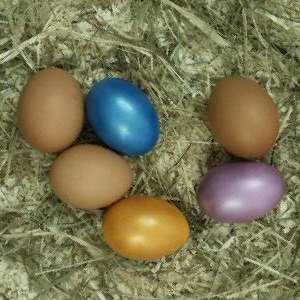egg: (208, 76, 280, 161), (18, 67, 86, 154), (102, 196, 190, 262), (87, 78, 160, 157), (49, 144, 134, 210), (197, 163, 287, 222)
